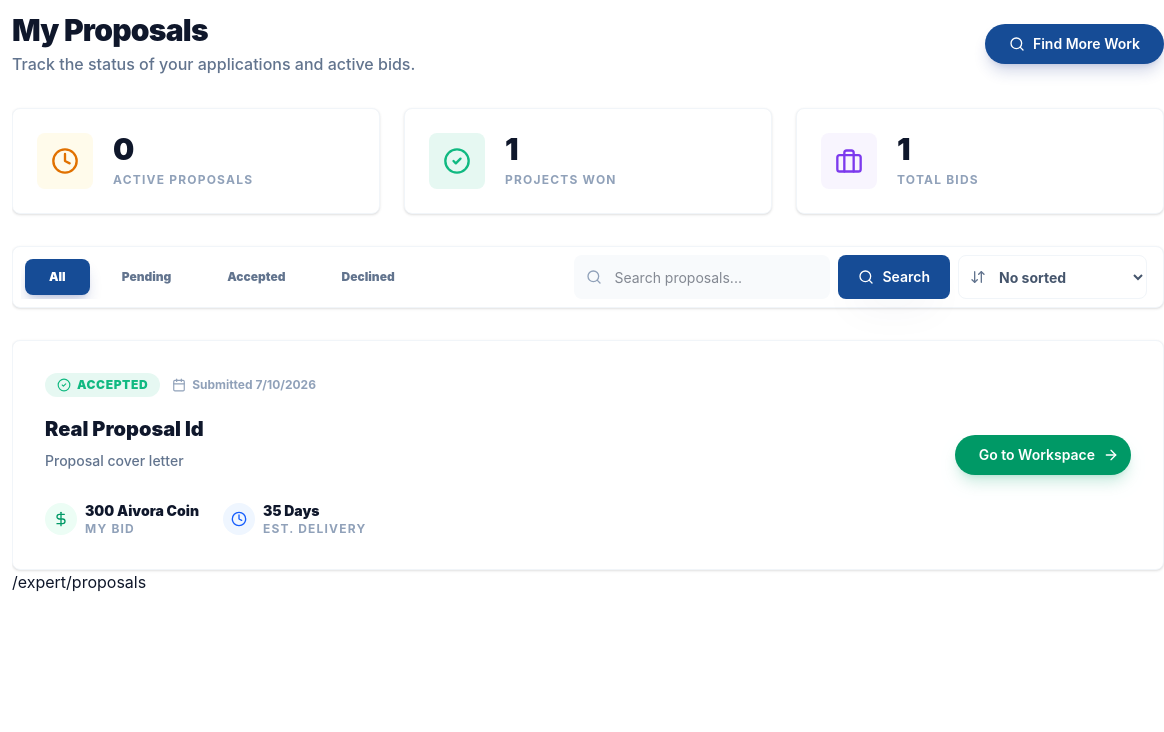
ExpertMyProposalsPage › Title navigation › uses proposal id, not job id or project id, for the title route
Click the link "Real Proposal Id".
click(124, 430)  # box [45,417,204,442]
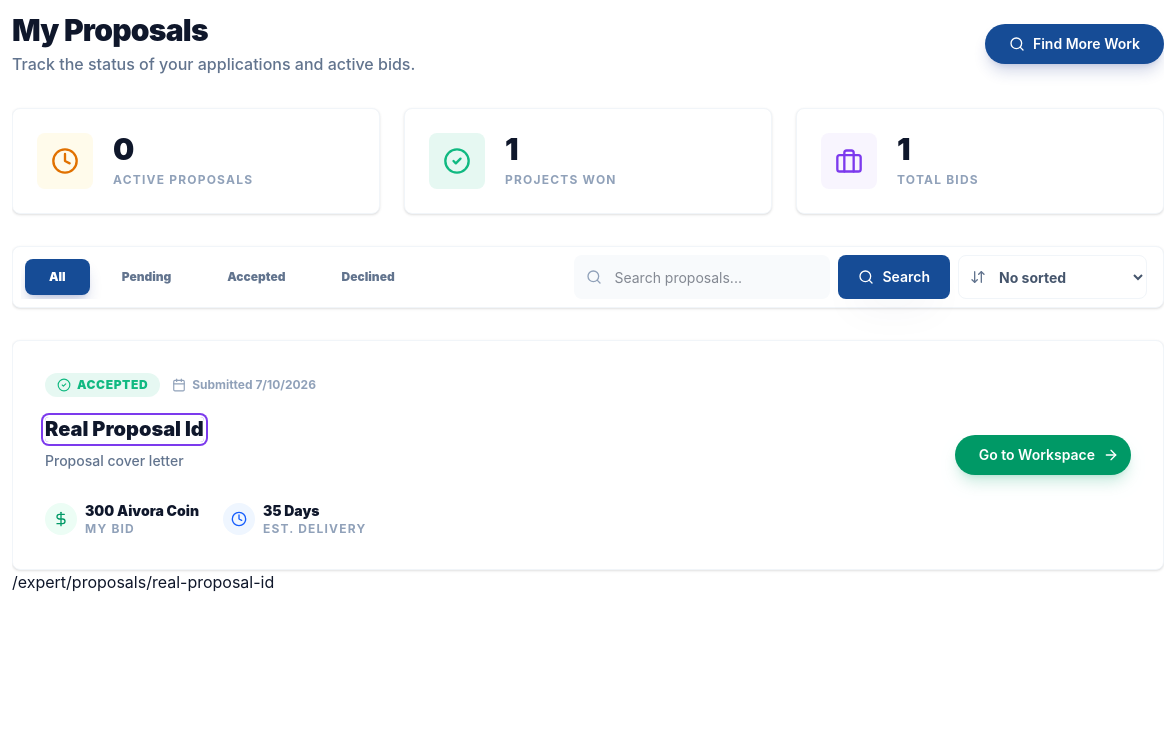
Result: the text named "current path" reads "/expert/proposals/real-proposal-id" at [12,572,274,592]
